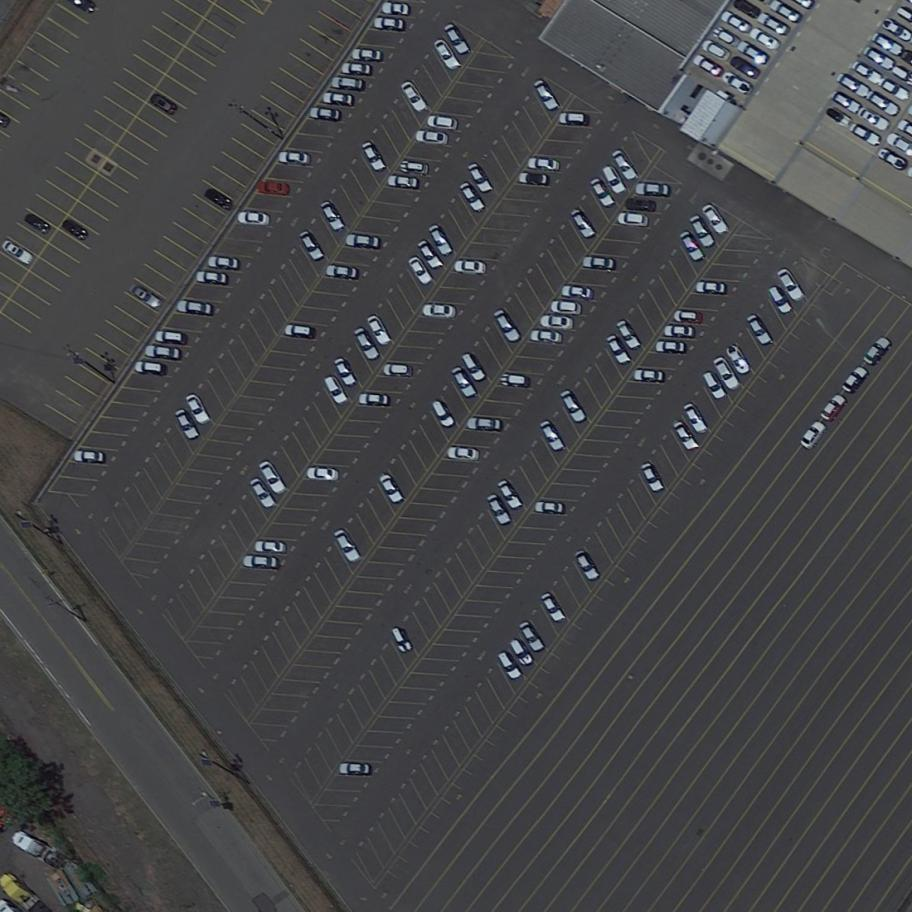small-vehicle: (822, 101, 859, 133), (776, 265, 807, 303), (558, 387, 589, 425), (258, 459, 289, 496), (712, 354, 742, 392), (861, 333, 893, 368), (333, 528, 363, 565), (865, 89, 902, 119), (492, 308, 522, 345), (399, 78, 429, 114), (248, 475, 278, 511), (128, 281, 163, 311), (449, 365, 478, 401), (353, 325, 381, 362), (688, 212, 716, 249), (840, 363, 871, 396), (799, 418, 829, 452), (442, 22, 471, 57), (701, 201, 730, 236), (614, 317, 643, 352), (433, 36, 461, 72), (835, 71, 871, 99), (588, 175, 617, 209), (459, 180, 488, 214), (1, 237, 35, 266), (532, 78, 560, 113), (746, 312, 774, 347), (725, 342, 753, 377), (496, 477, 524, 512), (574, 548, 602, 583), (540, 590, 568, 625), (518, 619, 546, 654), (466, 160, 493, 196), (720, 70, 756, 97), (679, 228, 706, 264), (856, 106, 892, 133), (756, 12, 793, 38), (819, 391, 849, 423), (729, 54, 763, 82), (605, 333, 633, 367), (701, 368, 729, 402), (612, 148, 639, 183), (185, 392, 212, 427), (174, 407, 201, 442), (737, 39, 772, 66), (748, 26, 783, 53), (848, 122, 883, 149), (428, 222, 454, 258), (830, 88, 863, 116), (851, 58, 884, 86), (507, 636, 535, 669), (360, 140, 387, 174), (319, 200, 346, 234), (720, 9, 754, 36), (539, 419, 566, 453), (378, 471, 405, 505), (862, 45, 897, 71), (601, 164, 628, 197), (570, 207, 597, 240), (416, 238, 443, 271), (407, 254, 434, 287), (299, 229, 326, 262), (701, 37, 734, 64), (460, 351, 487, 384), (430, 397, 457, 430), (333, 355, 359, 389), (324, 373, 350, 407), (871, 31, 905, 57), (640, 460, 666, 494), (487, 492, 512, 527), (878, 76, 911, 102), (497, 649, 523, 682), (682, 401, 708, 434), (768, 286, 794, 318), (672, 419, 698, 451), (366, 314, 391, 347), (692, 54, 725, 79), (768, 1, 802, 25), (389, 625, 415, 656), (880, 17, 912, 42), (204, 187, 235, 212), (61, 218, 90, 244), (711, 25, 742, 49), (877, 147, 908, 171), (176, 299, 215, 317), (149, 92, 178, 116), (24, 212, 52, 236), (242, 554, 280, 571), (345, 233, 382, 249), (144, 345, 183, 360), (425, 114, 459, 131), (447, 445, 481, 462), (414, 130, 449, 146), (154, 330, 189, 346), (386, 175, 420, 191), (561, 285, 595, 301), (196, 270, 230, 286), (134, 360, 168, 376), (285, 324, 318, 340), (237, 212, 272, 227), (527, 157, 561, 172), (207, 256, 241, 271), (582, 256, 616, 271), (327, 264, 360, 279), (551, 301, 584, 316), (372, 17, 407, 31), (540, 315, 575, 329), (399, 160, 431, 175), (618, 212, 650, 227), (635, 183, 669, 197), (454, 260, 488, 274), (279, 151, 313, 165), (322, 92, 353, 107), (307, 467, 340, 481), (696, 281, 729, 295), (634, 369, 667, 383), (257, 182, 292, 195), (422, 304, 457, 317), (559, 112, 591, 126), (519, 172, 551, 186), (625, 198, 657, 212), (332, 77, 364, 91), (73, 450, 105, 464), (531, 330, 563, 344), (254, 541, 288, 554), (383, 364, 414, 378), (466, 418, 502, 430), (309, 108, 342, 121), (663, 325, 695, 338), (360, 393, 389, 407), (352, 48, 383, 61), (381, 2, 411, 15), (341, 62, 371, 75), (501, 374, 531, 387), (340, 763, 371, 775), (535, 502, 566, 514), (674, 311, 704, 323), (656, 342, 687, 353)
